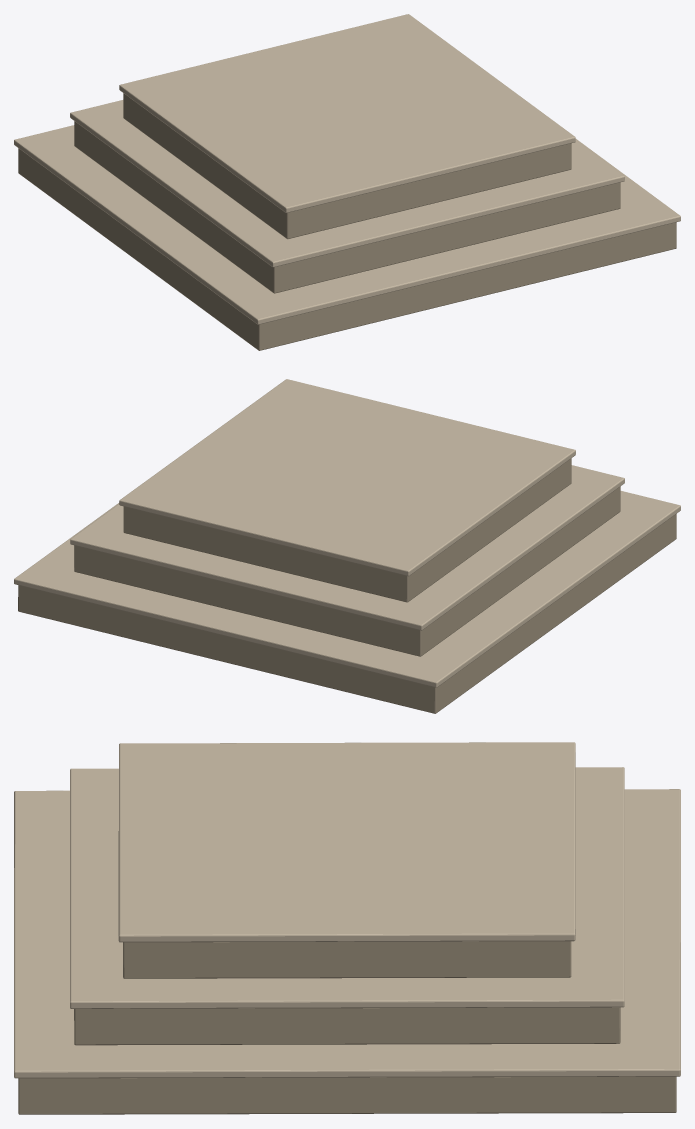
Rendered from plinth.glb.
The picture shows the model from 3 angles, top to bottom: view 1: azimuth 30°, elevation 25°; view 2: azimuth 150°, elevation 25°; view 3: azimuth 270°, elevation 25°; orthographic projection. The views are drawn at different scales.
Visible parts, largest first — view 1: KrishnaMandir_Base.001; view 2: KrishnaMandir_Base.001; view 3: KrishnaMandir_Base.001.
Part boxes in pixels (<box>): KrishnaMandir_Base.001: <box>14,14,680,350</box>; KrishnaMandir_Base.001: <box>14,379,680,713</box>; KrishnaMandir_Base.001: <box>14,742,680,1114</box>.
Size of the model in its own units: 9.52 by 2.19 by 9.52.
